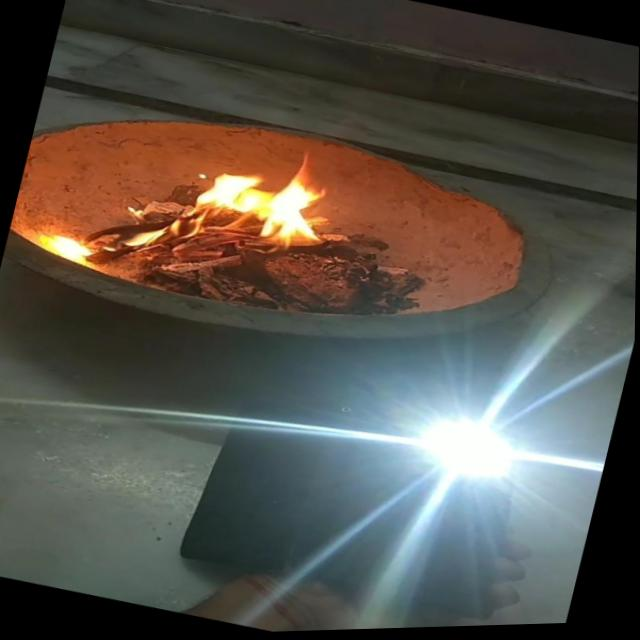fire: (177, 127, 368, 260), (34, 218, 123, 272)
